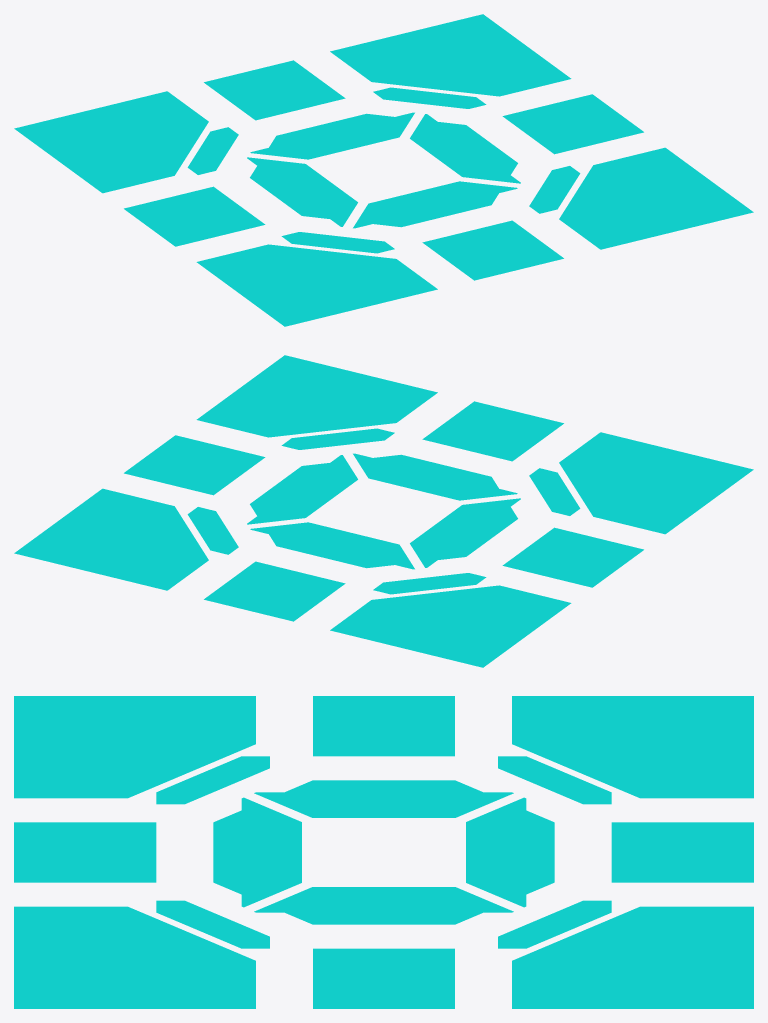
Rendered from SyphonGlass.fbx.
3 views of the same model, one above another, from view 1: azimuth 30°, elevation 25°; view 2: azimuth 150°, elevation 25°; view 3: azimuth 270°, elevation 25° (orthographic). The views are drawn at different scales.
Parts seen in each view (by area): view 1: SolSalleCuve.003; view 2: SolSalleCuve.003; view 3: SolSalleCuve.003.
Part boxes in pixels (x1=…): SolSalleCuve.003: x1=14, y1=14, x2=753, y2=326; SolSalleCuve.003: x1=14, y1=355, x2=753, y2=667; SolSalleCuve.003: x1=14, y1=696, x2=753, y2=1008.
Size of the model in its own units: 1950 by 1950 by 0.
